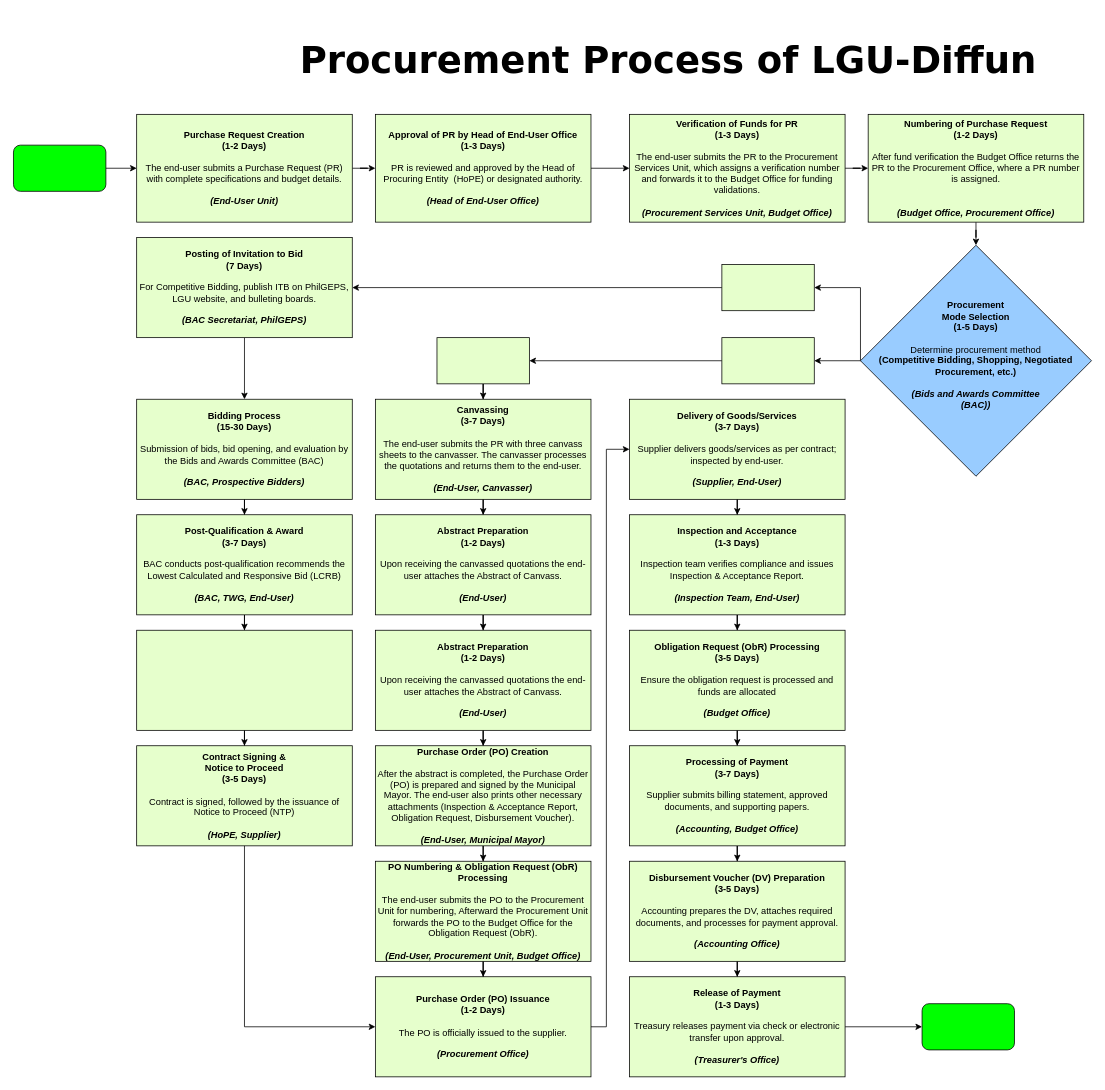
This 1105x1090 diagram has some shape labels left out. The centre of each missing label's shape, as x and y in pixels:
"Competitive Bidding" belongs at pixel 767 287.
"End" belongs at pixel 967 1026.
"Negotiated Procurement" belongs at pixel 767 360.
"Notice of Award (NOA) (1-3 Days) HoPE issues NOA to the winning bidder. (HoPE)" belongs at pixel 244 679.
"Shopping" belongs at pixel 482 360.
"Start Here" belongs at pixel 59 167.
